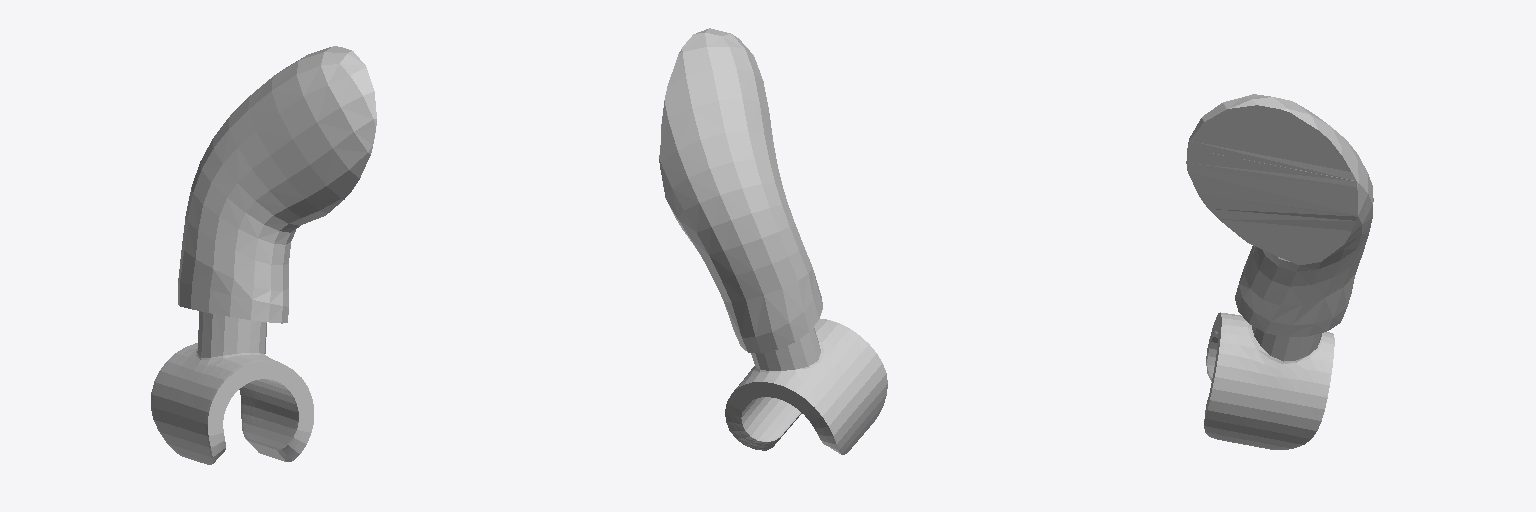
Rendered from brazoder.obj.
3 views of the same model, side by side, from view 1: azimuth 30°, elevation 25°; view 2: azimuth 150°, elevation 25°; view 3: azimuth 270°, elevation 25° (orthographic).
Parts seen in each view (by area): view 1: brazoDerHomero; view 2: brazoDerHomero; view 3: brazoDerHomero.
Boxes of the visible parts, x1=… form: brazoDerHomero: x1=151, y1=46, x2=376, y2=464; brazoDerHomero: x1=659, y1=28, x2=887, y2=454; brazoDerHomero: x1=1186, y1=94, x2=1373, y2=449.
Size of the model in its own units: 1.23 by 2.65 by 1.16.